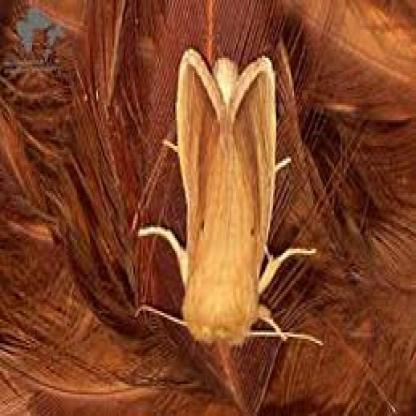stem-borer: (168, 41, 282, 352)
